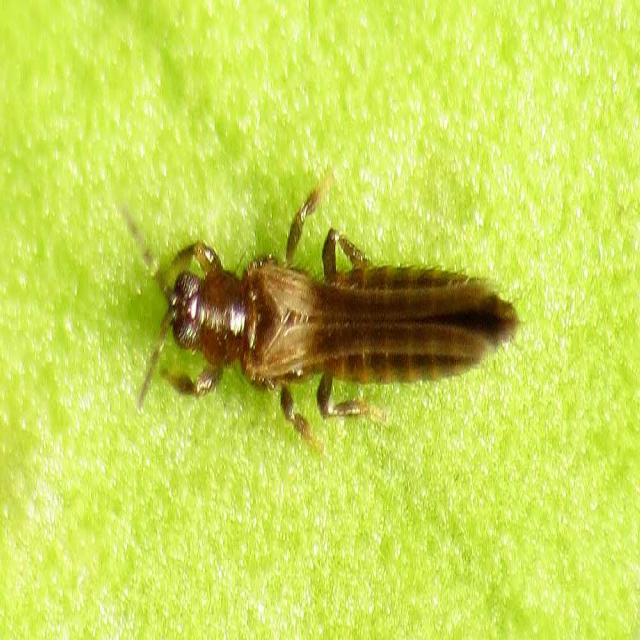Thrip-Adult-: (96, 161, 533, 444)
